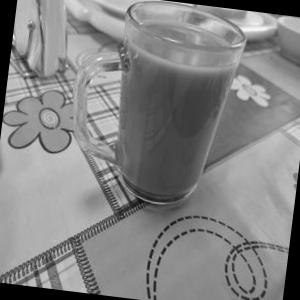coffee: (78, 0, 261, 204)
